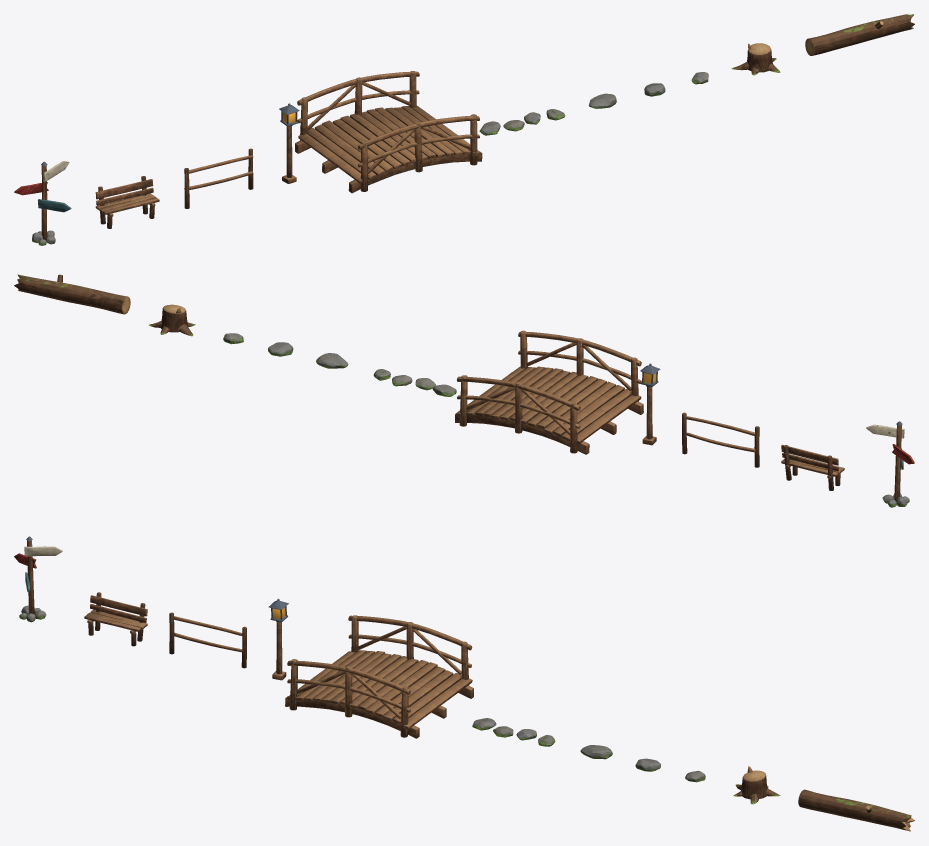
Rendered from props_senderos.glb.
3 views of the same model, one above another, from view 1: azimuth 30°, elevation 25°; view 2: azimuth 150°, elevation 25°; view 3: azimuth 330°, elevation 25° (orthographic).
Visible parts, largest first — view 1: Prop_Puente, Prop_Tronco, Prop_Banca, Prop_Barandal, Prop_Tocon, Prop_Vado, Prop_Farol, Prop_LetreroCruce; view 2: Prop_Puente, Prop_Tronco, Prop_Banca, Prop_Barandal, Prop_Tocon, Prop_Vado, Prop_Farol, Prop_LetreroCruce; view 3: Prop_Puente, Prop_Tronco, Prop_Banca, Prop_Barandal, Prop_Tocon, Prop_Vado, Prop_Farol, Prop_LetreroCruce.
Part boxes in pixels (<box>): Prop_Puente: <box>295,71,482,193</box>; Prop_Tronco: <box>805,14,914,55</box>; Prop_Banca: <box>95,176,159,228</box>; Prop_Barandal: <box>184,148,253,208</box>; Prop_Tocon: <box>731,43,780,75</box>; Prop_Vado: <box>479,109,565,135</box>; Prop_Farol: <box>279,103,299,183</box>; Prop_LetreroCruce: <box>32,161,55,245</box>; Prop_Puente: <box>455,330,643,454</box>; Prop_Tronco: <box>14,274,130,314</box>; Prop_Banca: <box>781,444,844,490</box>; Prop_Barandal: <box>682,412,759,467</box>; Prop_Tocon: <box>149,304,195,336</box>; Prop_Vado: <box>373,369,456,396</box>; Prop_Farol: <box>640,363,660,445</box>; Prop_LetreroCruce: <box>882,421,909,507</box>; Prop_Puente: <box>285,615,473,738</box>; Prop_Tronco: <box>798,789,914,831</box>; Prop_Banca: <box>84,592,147,646</box>; Prop_Barandal: <box>169,612,246,668</box>; Prop_Tocon: <box>733,766,780,804</box>; Prop_Vado: <box>472,718,555,746</box>; Prop_Farol: <box>268,598,288,680</box>; Prop_LetreroCruce: <box>19,536,46,622</box>.
Bounding box in the file's own units: 26.43 × 2.28 × 3.32.
Materials: 1 (1 with a texture image).
